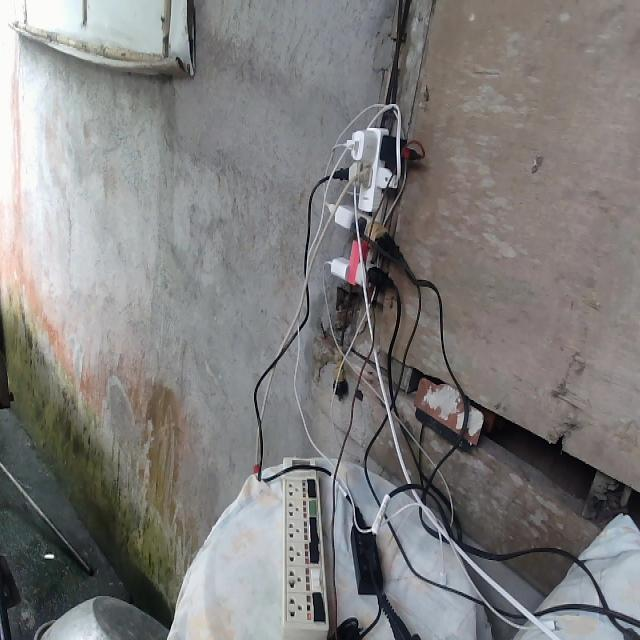-: (327, 117, 409, 292)
